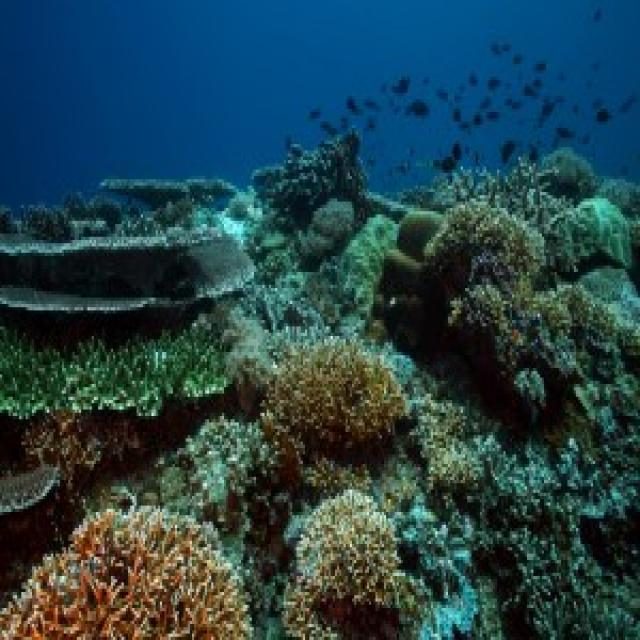Healthy: (1, 507, 251, 638), (421, 199, 568, 414), (479, 449, 628, 638), (541, 283, 639, 523), (1, 321, 227, 414), (285, 491, 417, 638), (261, 340, 406, 462), (163, 417, 266, 529), (415, 395, 483, 497), (560, 270, 639, 356), (547, 199, 630, 270)
